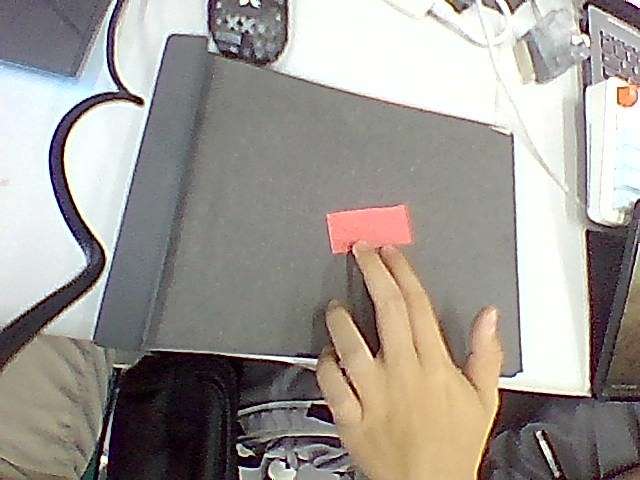card: (327, 204, 412, 253)
